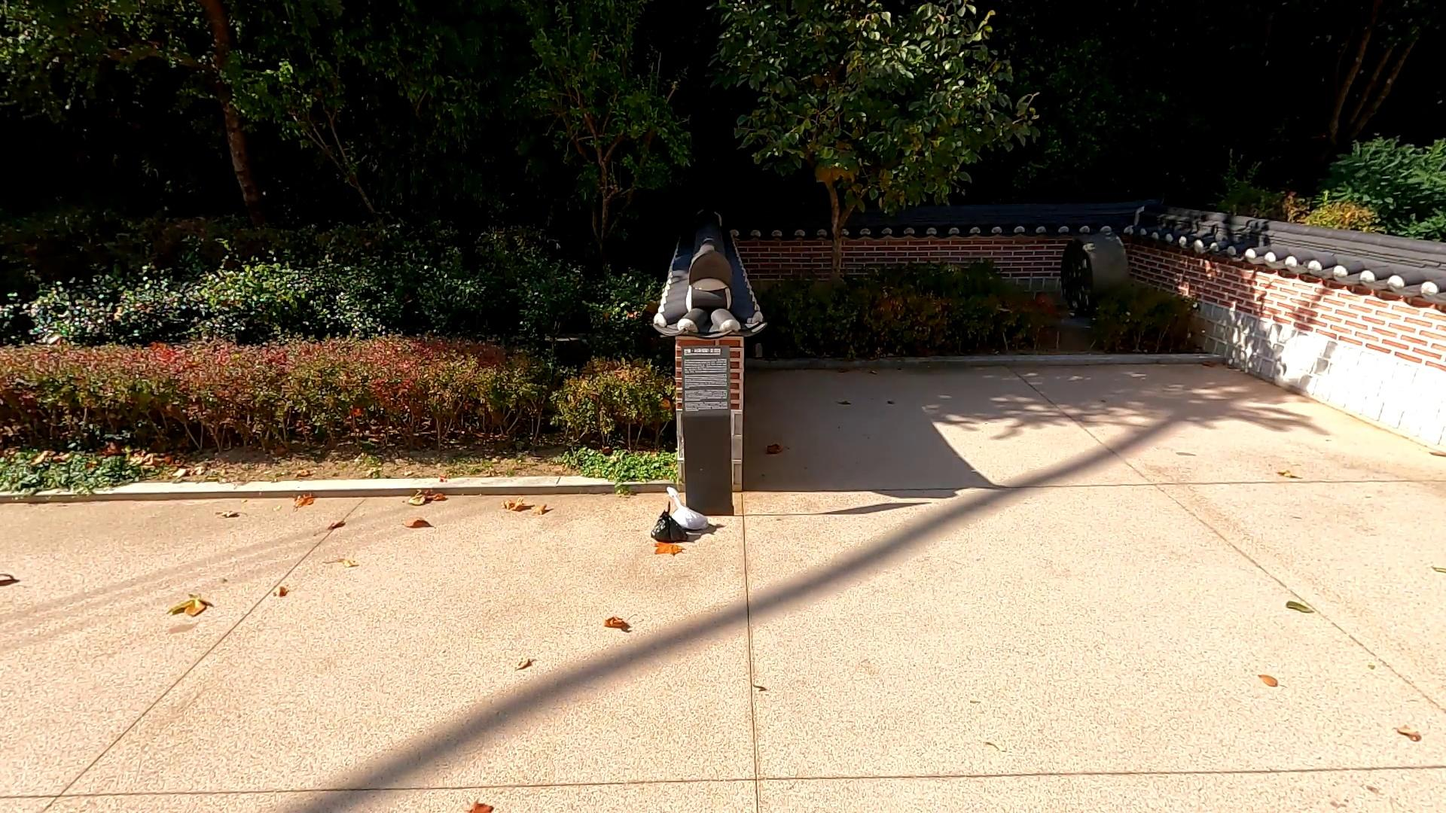trash: (665, 486, 712, 530), (651, 504, 691, 548)
